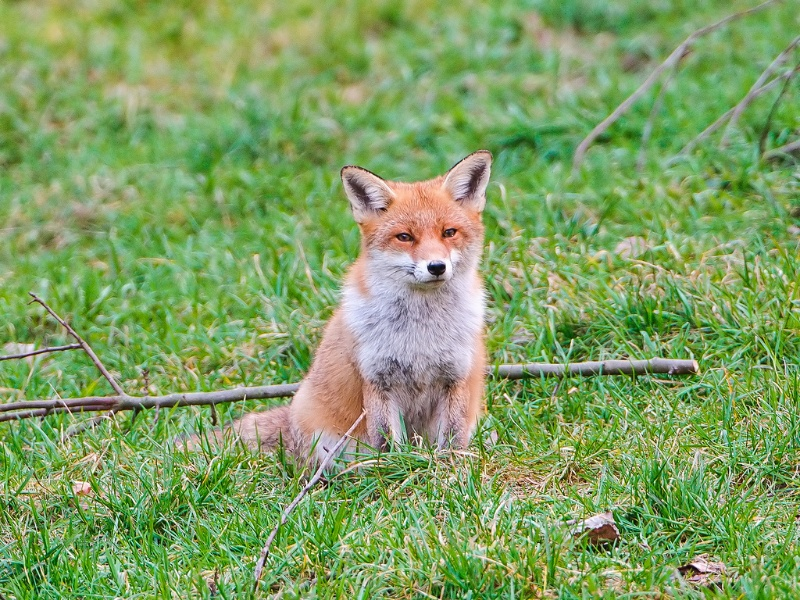fox: (152, 145, 500, 487)
